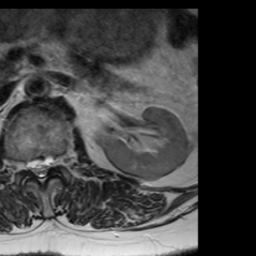CCS_normal: (36, 147, 46, 189)
LFS_normal: (54, 142, 64, 176)
LLS_normal: (46, 145, 55, 177)
RFS_normal: (17, 150, 26, 179)
RLS_normal: (26, 150, 36, 181)
